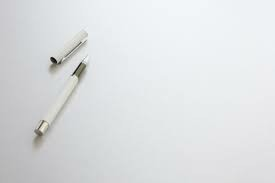pen: (36, 56, 87, 139)
